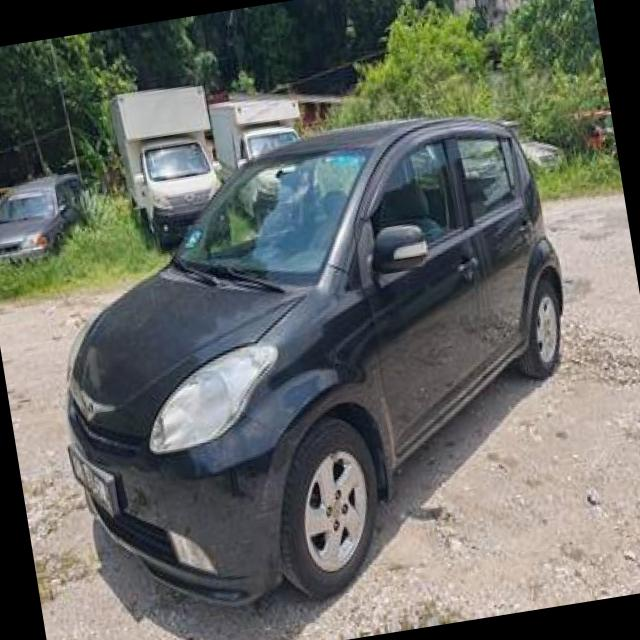PeroduaMyvi: (22, 93, 608, 638)
